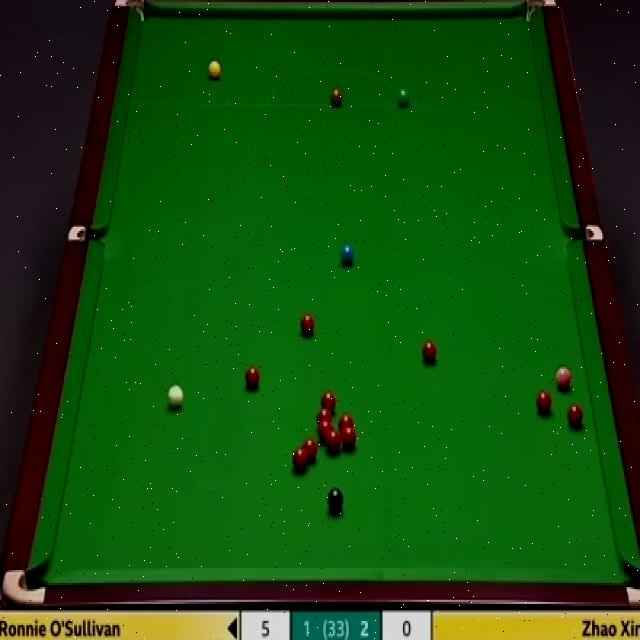black-ball: (326, 488, 344, 510)
blue-ball: (339, 244, 356, 268)
brown-ball: (329, 87, 342, 108)
green-ball: (396, 89, 411, 108)
pink-ball: (554, 366, 573, 391)
red-ball: (420, 339, 438, 363), (536, 388, 552, 415), (300, 312, 316, 338), (293, 446, 309, 472), (566, 403, 583, 427), (342, 424, 357, 450), (244, 364, 260, 388), (302, 438, 318, 462), (320, 390, 336, 413), (326, 429, 341, 453), (315, 408, 332, 427), (318, 420, 332, 442), (338, 412, 355, 429)
white-ball: (167, 384, 184, 410)
yellow-ball: (208, 61, 220, 82)
